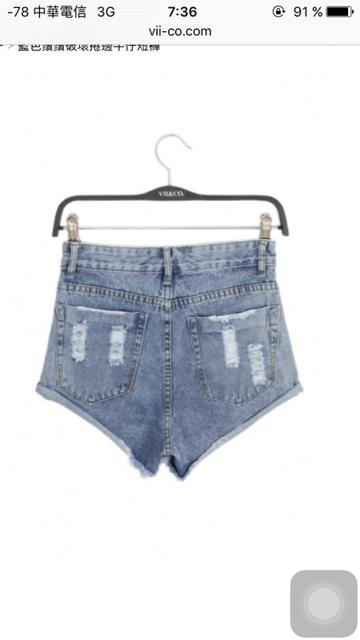Shorts: (36, 234, 306, 481)
